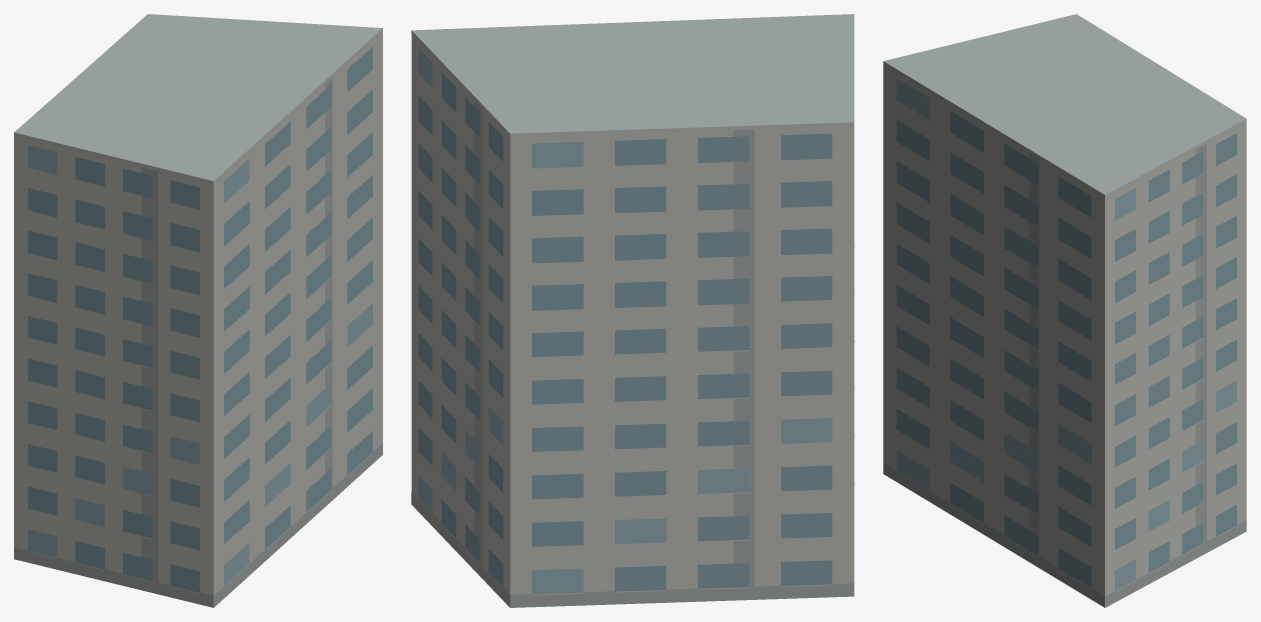
File: residential-7a14f671-b0bb-4cf5-9639-055dce17896d.glb
3 renders of one model, left to right at view 1: azimuth 30°, elevation 25°; view 2: azimuth 150°, elevation 25°; view 3: azimuth 270°, elevation 25°, orthographic. The views are drawn at different scales.
Parts seen in each view (by area): view 1: residential-7a14f671-b0bb-4cf5-9639-055dce17896d.tmp; view 2: residential-7a14f671-b0bb-4cf5-9639-055dce17896d.tmp; view 3: residential-7a14f671-b0bb-4cf5-9639-055dce17896d.tmp.
Boxes of the visible parts, x1,y1,x2,y2 form: residential-7a14f671-b0bb-4cf5-9639-055dce17896d.tmp: (14,14,382,607); residential-7a14f671-b0bb-4cf5-9639-055dce17896d.tmp: (411,14,854,607); residential-7a14f671-b0bb-4cf5-9639-055dce17896d.tmp: (883,14,1246,607).
Bounding box in the file's own units: 28.22 × 30 × 23.93.
